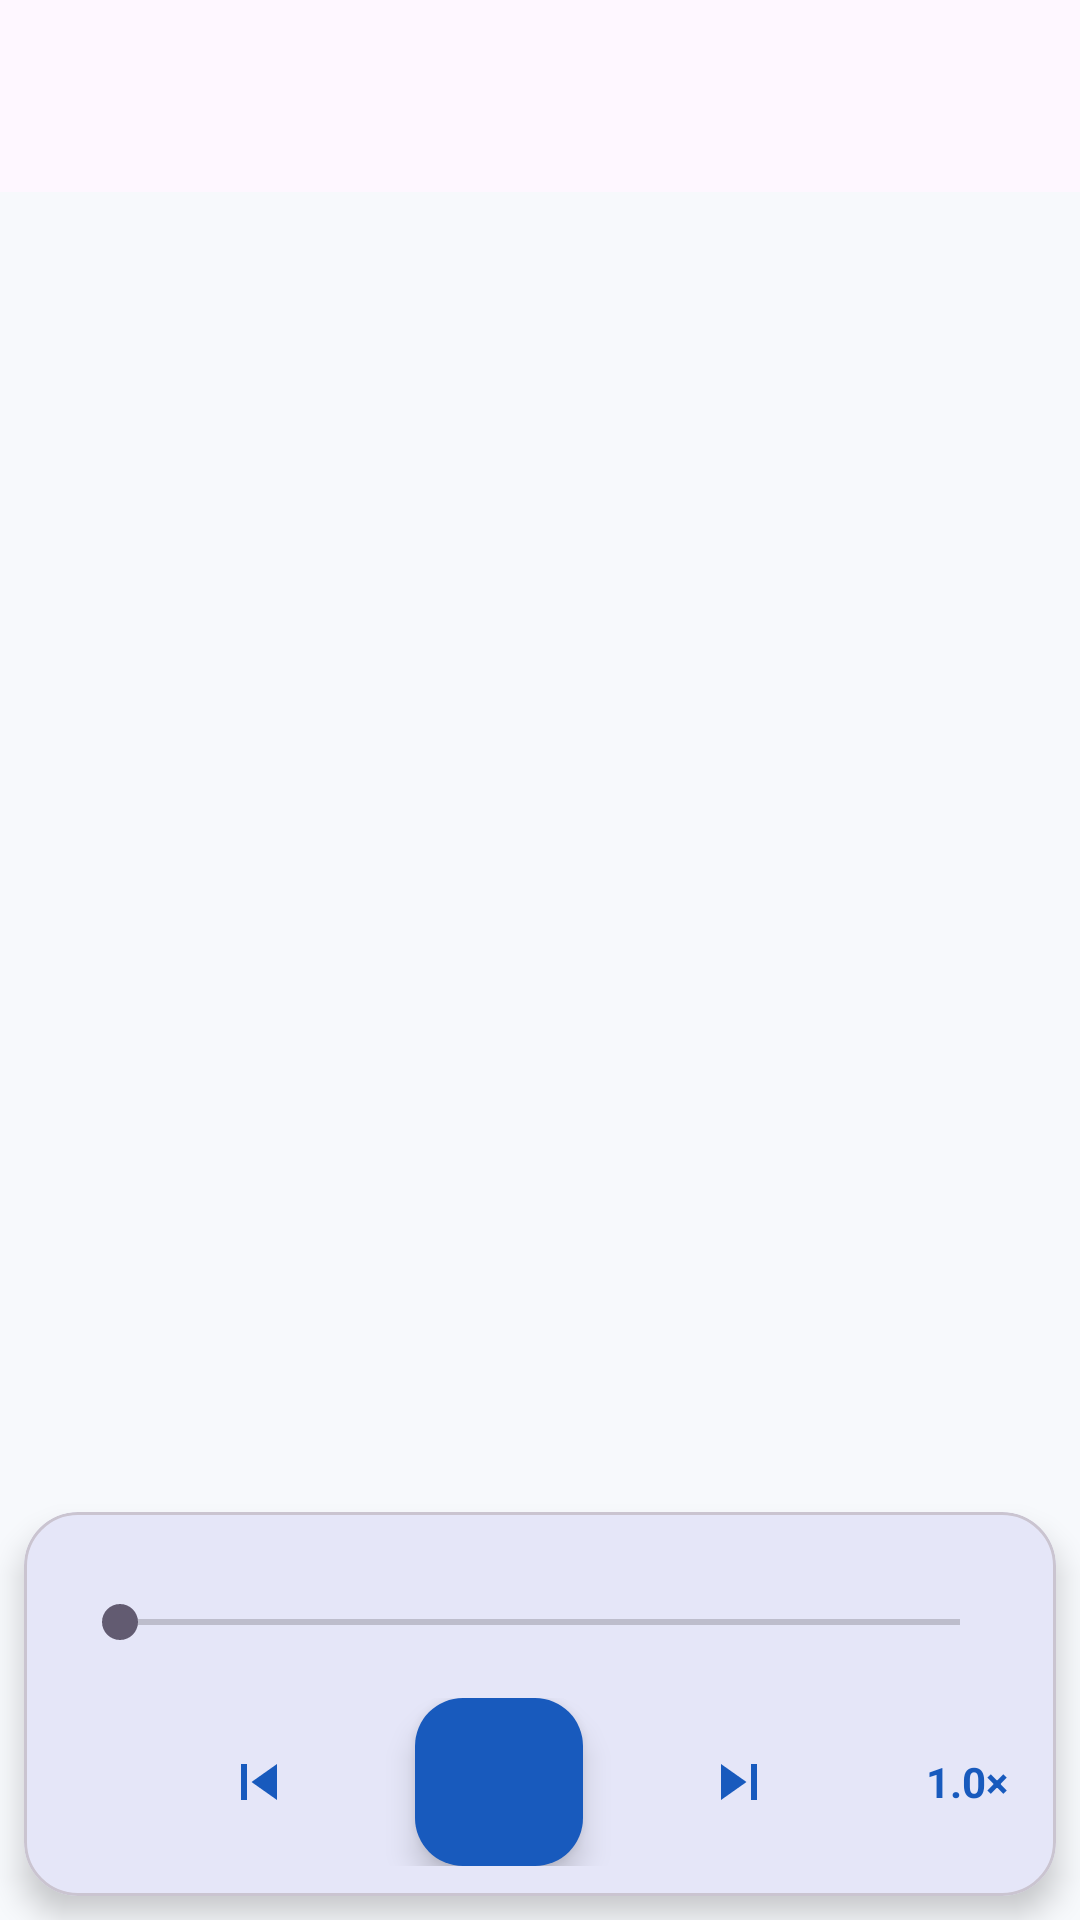

Icons on this 1080x1920 Android screen, each with its box as (x1=x1, y1=y1, x2=x2, y2=y2):
skip next: (x1=721, y1=1764, x2=757, y2=1800)
skip previous: (x1=241, y1=1764, x2=277, y2=1800)
